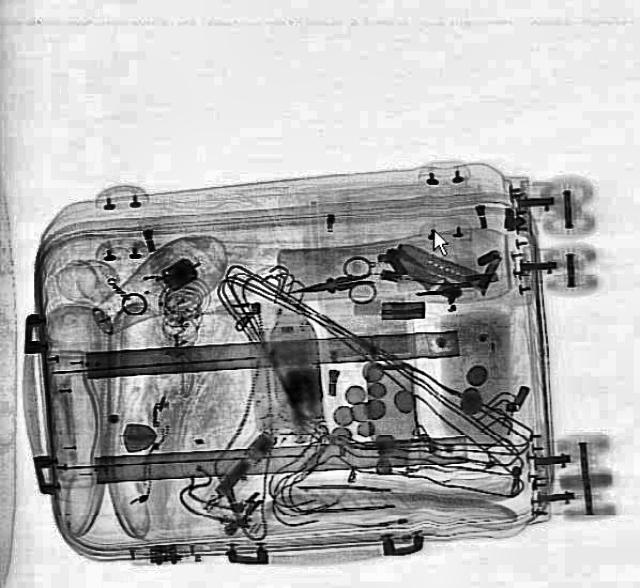Scissors: (284, 253, 376, 313)
